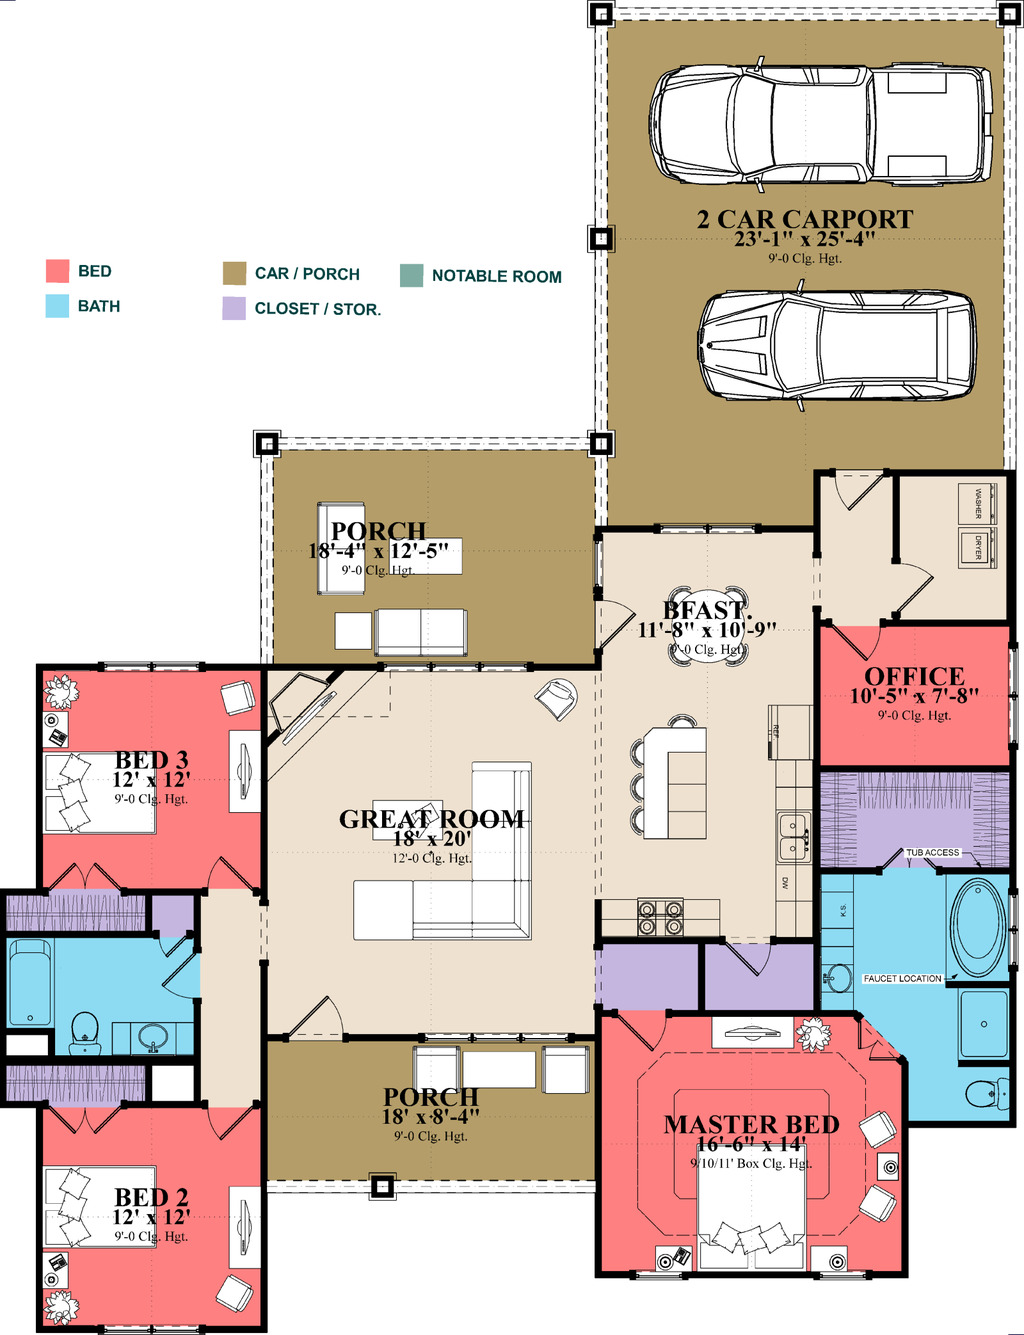bed: (688, 1133, 834, 1274), (42, 1162, 167, 1247), (34, 759, 171, 837)
door: (859, 822, 984, 868), (819, 612, 888, 677), (823, 449, 888, 508), (717, 924, 771, 989), (196, 847, 273, 891), (280, 991, 355, 1035), (580, 596, 636, 652), (35, 856, 119, 893), (42, 1097, 127, 1133), (882, 562, 938, 612), (202, 1099, 257, 1149), (613, 1006, 677, 1047), (159, 954, 211, 1004), (152, 920, 182, 954)
kitchen_bar: (615, 685, 733, 852)
large_sink: (952, 1068, 1024, 1118), (57, 999, 111, 1054)
round_table: (663, 574, 765, 679)
sink: (950, 970, 1024, 1068)
small_sink: (815, 870, 867, 1018), (123, 1018, 198, 1054)
tub: (1, 927, 65, 1039), (952, 874, 1011, 974)
